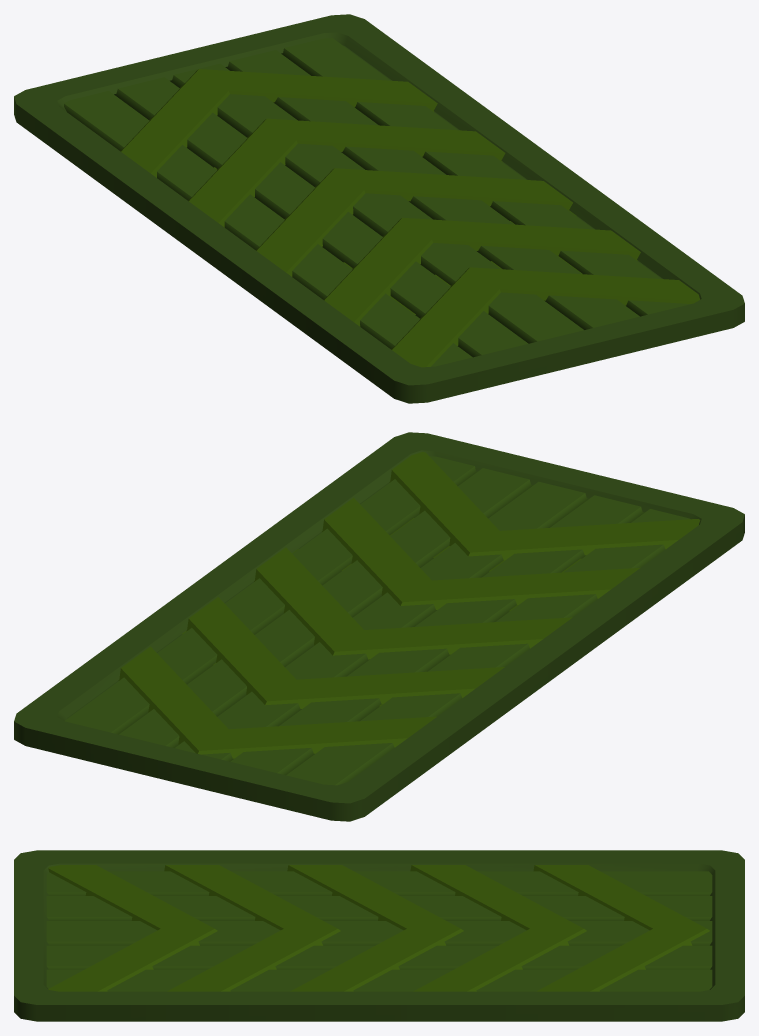
Rendered from PLF0110148.fbx.
3 views of the same model, one above another, from view 1: azimuth 30°, elevation 25°; view 2: azimuth 150°, elevation 25°; view 3: azimuth 270°, elevation 25° (orthographic). The views are drawn at different scales.
Visible parts, largest first — view 1: smPLF0110148; view 2: smPLF0110148; view 3: smPLF0110148.
Part boxes in pixels (x1=…): smPLF0110148: x1=14, y1=14, x2=744, y2=403; smPLF0110148: x1=14, y1=432, x2=744, y2=821; smPLF0110148: x1=14, y1=850, x2=744, y2=1021.
Bounding box in the file's own units: 400 × 20 × 800.
